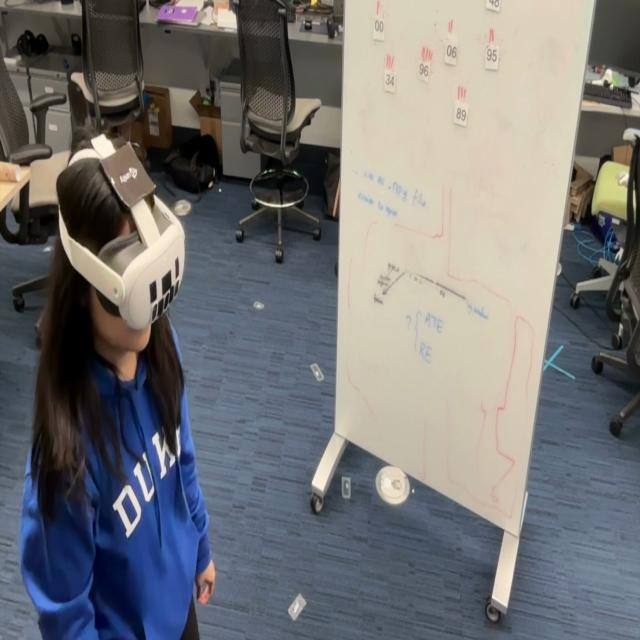Headset: (56, 132, 186, 331)
UnityLogo: (98, 137, 157, 211)
